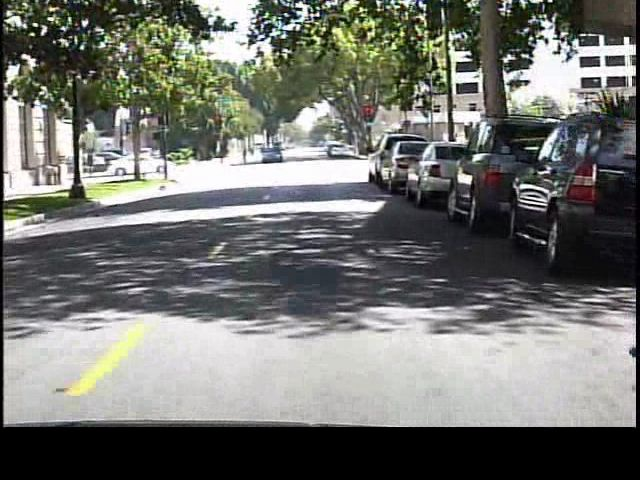person: (238, 143, 252, 166)
